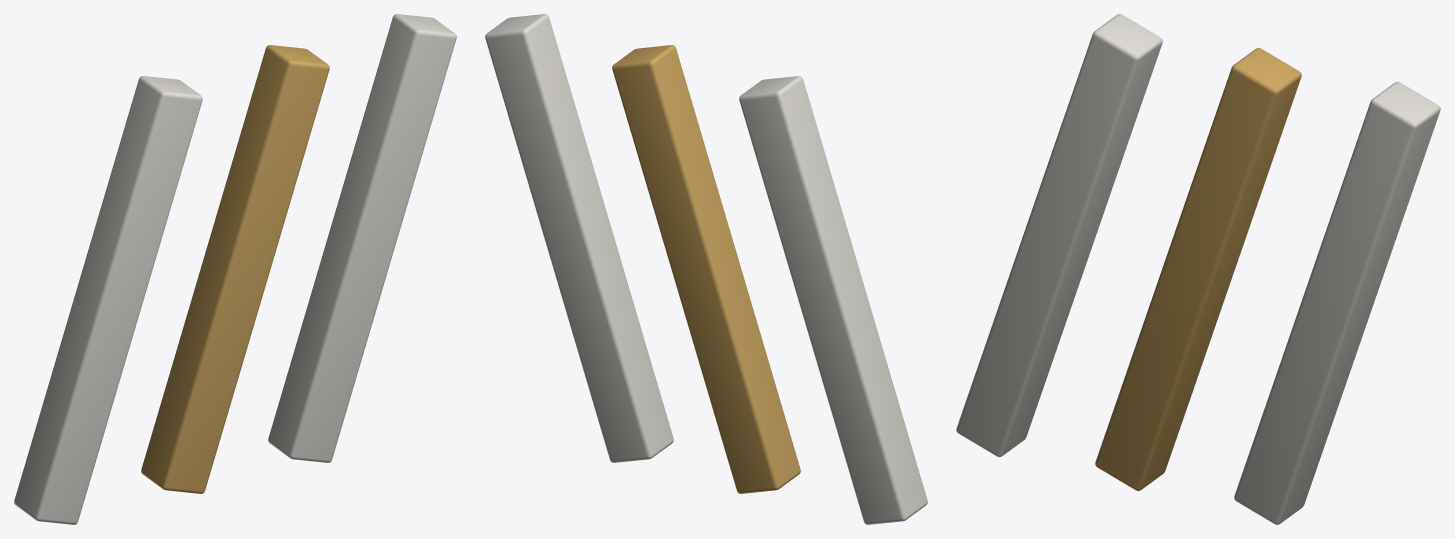
Rendered from triplem-slash.glb.
The picture shows the model from 3 angles, left to right: view 1: azimuth 30°, elevation 25°; view 2: azimuth 150°, elevation 25°; view 3: azimuth 330°, elevation 25°; orthographic projection. The views are drawn at different scales.
Visible parts, largest first — view 1: Slash_L, Slash_R, Slash_M; view 2: Slash_L, Slash_R, Slash_M; view 3: Slash_L, Slash_M, Slash_R.
Boxes of the visible parts, x1,y1,x2,y2 form: Slash_L: [14, 76, 202, 524]; Slash_R: [268, 14, 456, 462]; Slash_M: [141, 45, 329, 493]; Slash_L: [739, 76, 927, 524]; Slash_R: [485, 14, 673, 462]; Slash_M: [612, 45, 800, 493]; Slash_L: [956, 14, 1162, 457]; Slash_M: [1095, 48, 1301, 490]; Slash_R: [1234, 81, 1440, 524].
Bounding box in the file's own units: 3.32 × 3.09 × 0.34.
